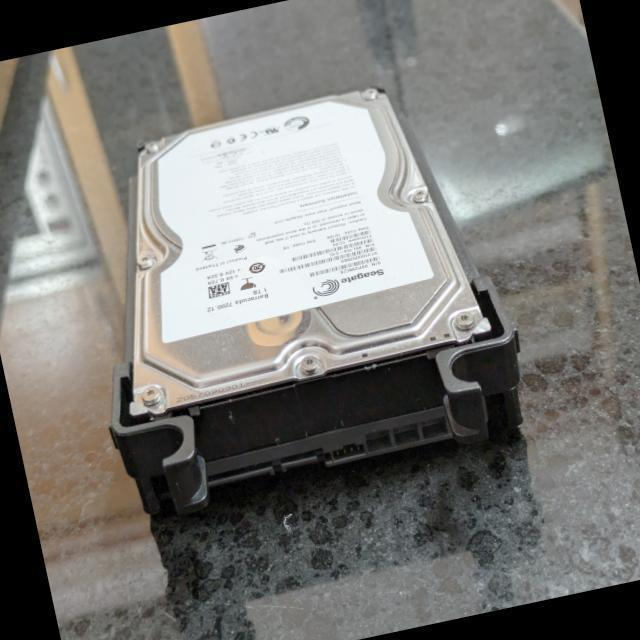DISK: (80, 71, 495, 418)
